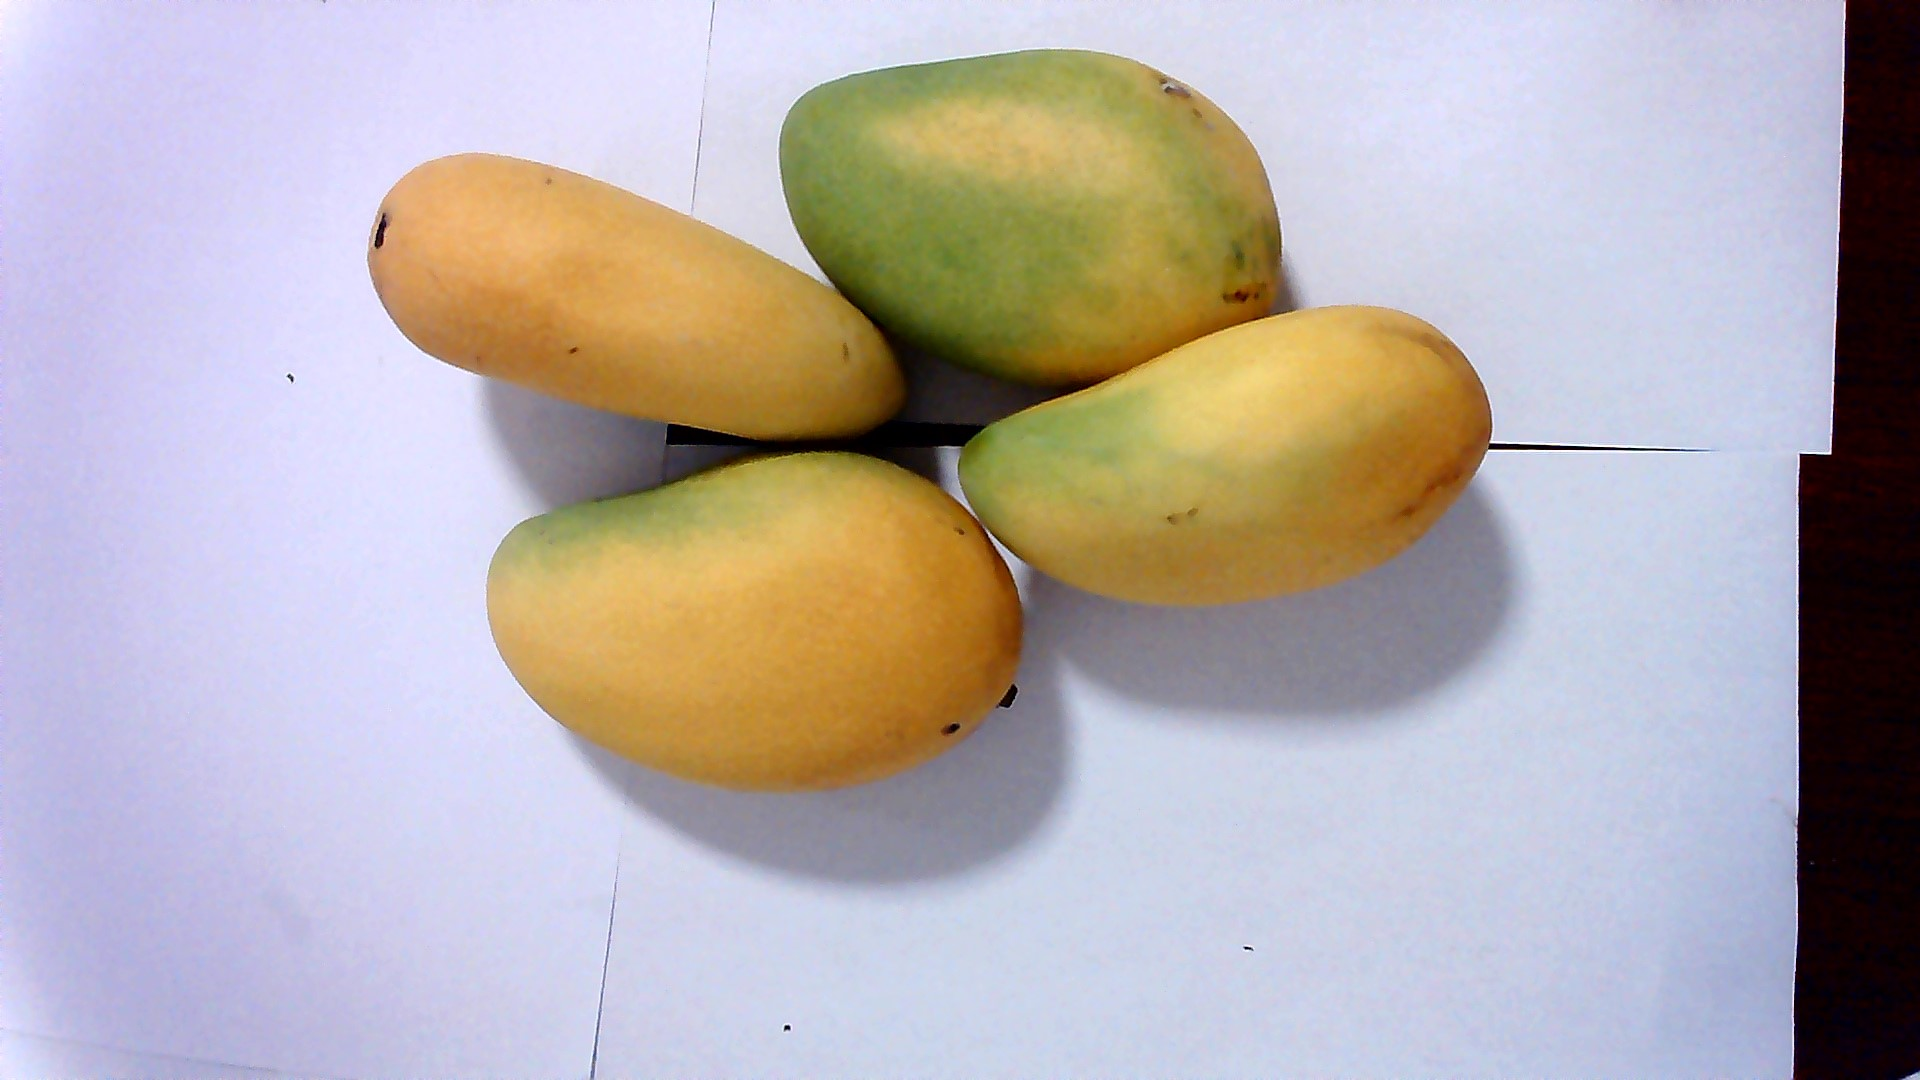mongo: (473, 468, 1042, 796), (767, 54, 1328, 365), (375, 153, 901, 459), (960, 330, 1485, 624)
